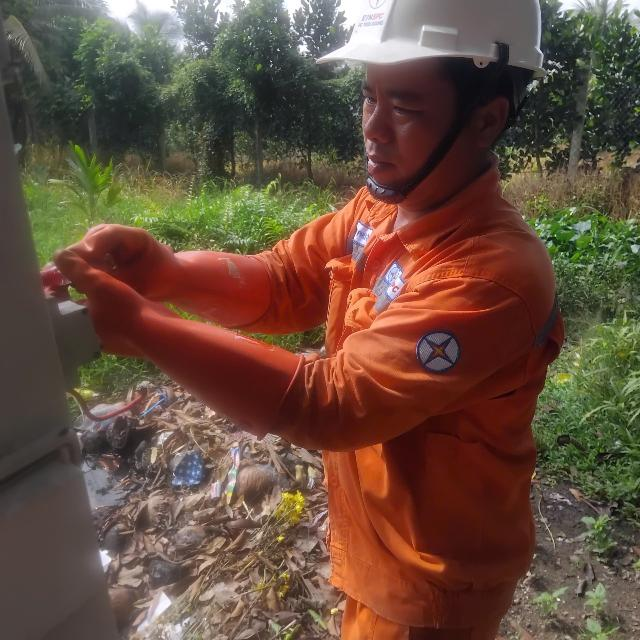gloves: (58, 248, 318, 438), (73, 215, 288, 327)
helmet: (283, 0, 566, 72)
